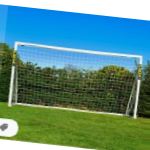goals: (7, 39, 143, 121)
